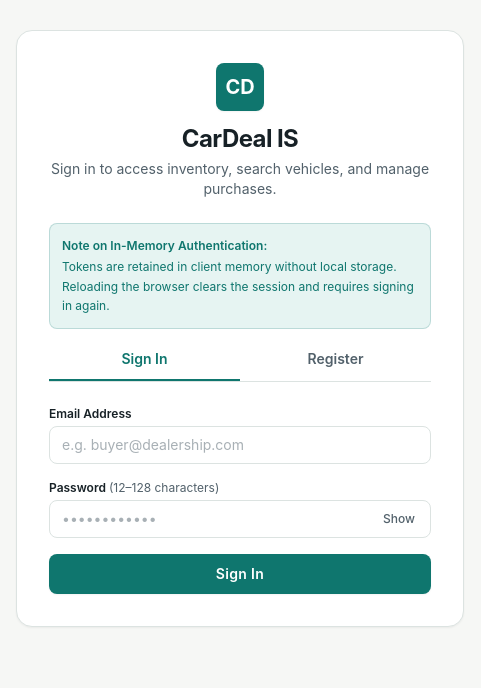
Test: AuthView Component › displays invalid credentials error and does NOT display session expired message on bad password
Type "user@cardeal.com" into the field labelled "Email Address" at (240, 444), box x1=49 y1=426 x2=431 y2=464
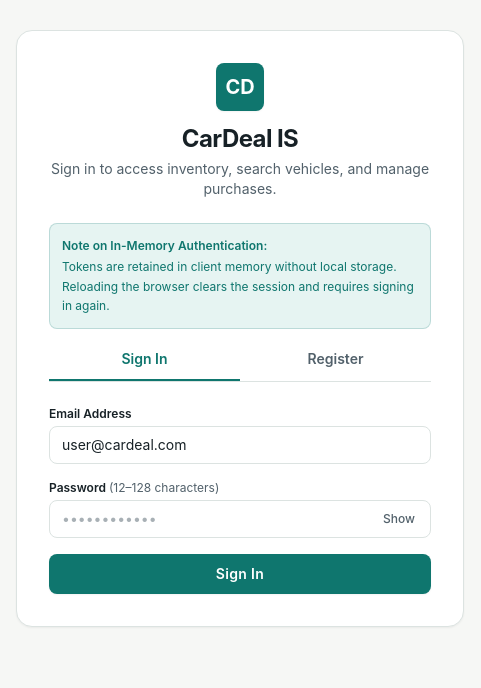
Type "WrongPassword123!" into the password field with placeholder "••••••••••••" at (240, 518), box x1=49 y1=500 x2=431 y2=538
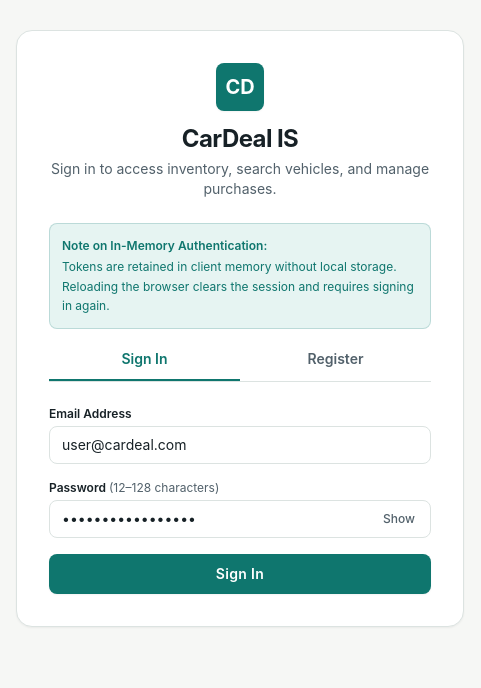
Click the button "Sign In" at (240, 574), box x1=49 y1=554 x2=431 y2=594
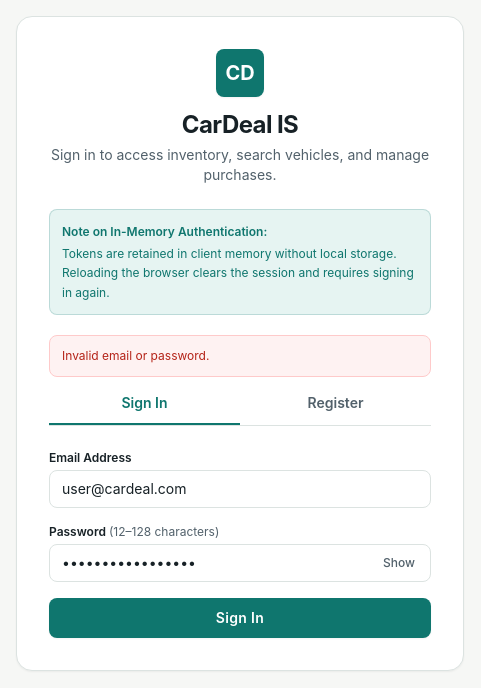
Expected: the text "Invalid email or password." is shown, x1=49 y1=335 x2=431 y2=377
